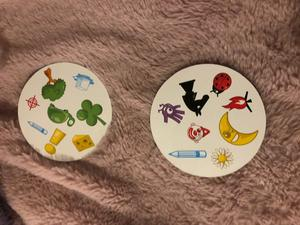arbre: (38, 68, 69, 102)
cheval: (176, 77, 211, 116)
cible: (25, 95, 40, 112)
clown: (181, 121, 212, 145)
coccinelle: (209, 71, 234, 97)
crayon: (168, 148, 208, 160), (27, 120, 49, 137)
dooble: (155, 99, 186, 126)
feu: (220, 90, 254, 114)
fleur: (209, 146, 235, 171)
fromage: (71, 132, 95, 152)
glacon: (71, 71, 95, 93)
lune: (218, 110, 259, 146)
point_exclamation: (43, 127, 68, 155)
tortue: (46, 101, 77, 128)
trefle: (75, 98, 107, 129)
